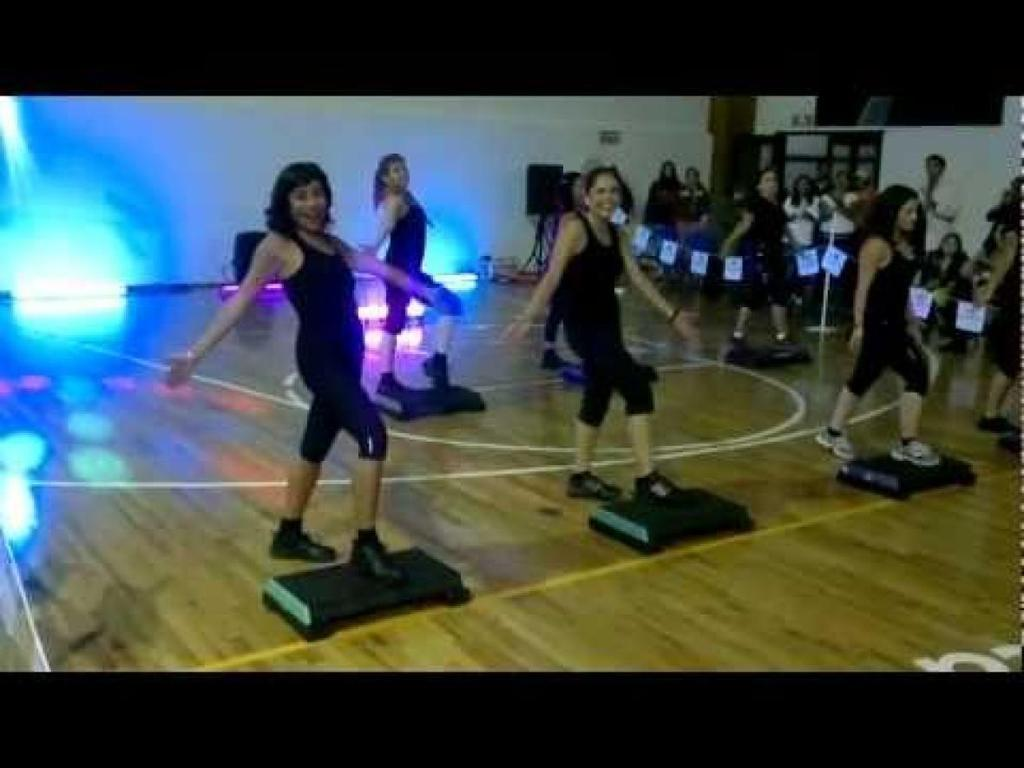face: (289, 180, 327, 233), (591, 175, 620, 218), (899, 201, 919, 231), (388, 162, 410, 188), (762, 174, 780, 195), (928, 159, 941, 177), (944, 238, 958, 254), (798, 180, 811, 194), (689, 170, 699, 184), (665, 167, 673, 178)
